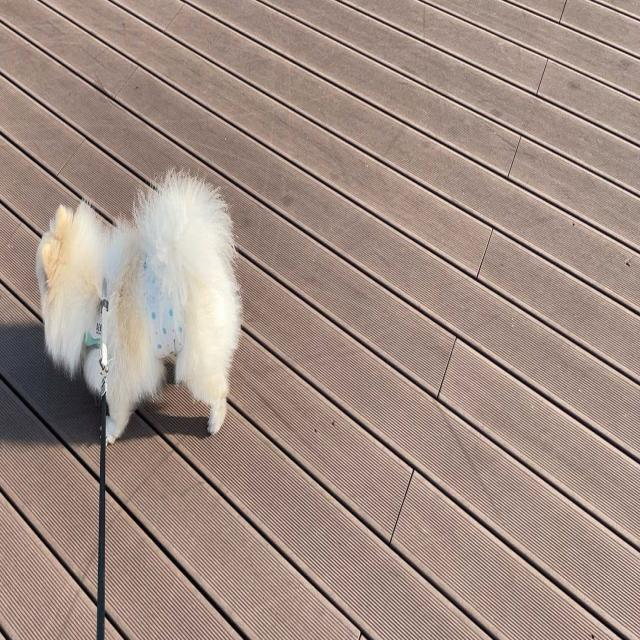Dog: (35, 165, 245, 448)
